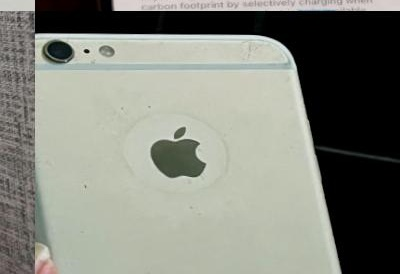scratch: (35, 33, 98, 74), (106, 96, 166, 137), (222, 35, 294, 65), (67, 169, 138, 193)
